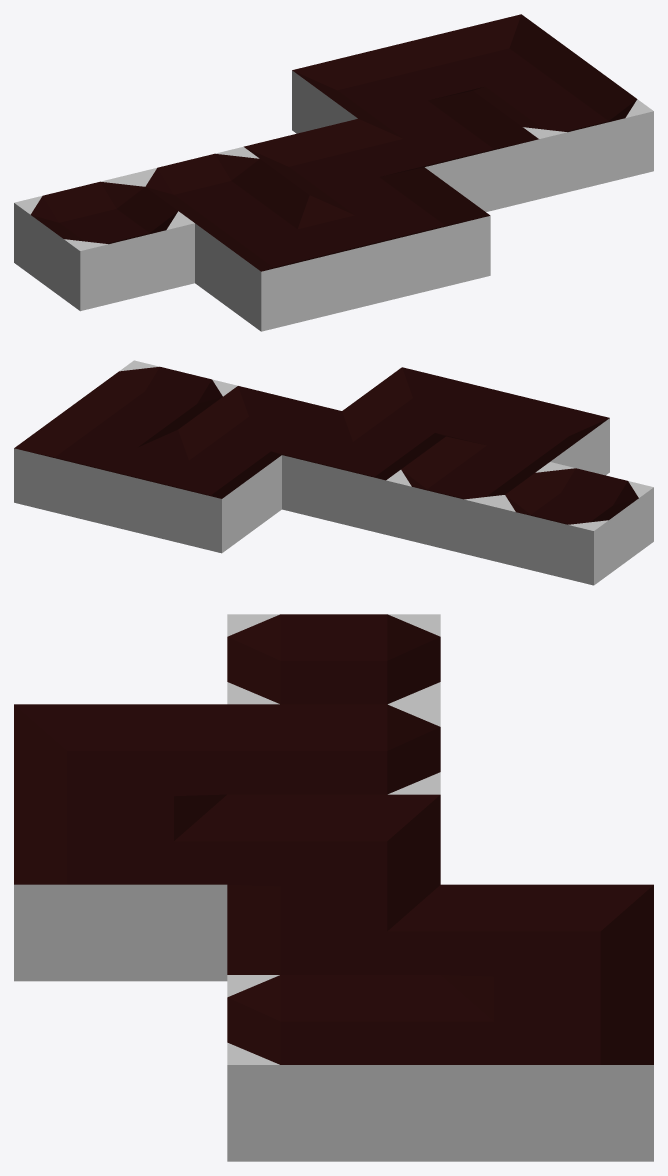
Rendered from 46s_path.obj.
The picture shows the model from 3 angles, top to bottom: view 1: azimuth 30°, elevation 25°; view 2: azimuth 150°, elevation 25°; view 3: azimuth 270°, elevation 25°; orthographic projection. The views are drawn at different scales.
Visible parts, largest first — view 1: hole.0.1_Cube.242, corner.1.0_corner.1187, corner.2.0_corner.1188, ending.4.1_ending.482, corner.3.1_corner.1190, corner.3.2_corner.1191, corner.4.2_corner.1192, ending.1.1_ending.481, corner.2.1_corner.1189; view 2: hole.0.1_Cube.242, corner.3.2_corner.1191, corner.4.2_corner.1192, ending.1.1_ending.481, corner.2.1_corner.1189, corner.1.0_corner.1187, corner.3.1_corner.1190, corner.2.0_corner.1188, ending.4.1_ending.482; view 3: ending.4.1_ending.482, corner.2.0_corner.1188, corner.4.2_corner.1192, corner.3.2_corner.1191, corner.2.1_corner.1189, corner.1.0_corner.1187, hole.0.1_Cube.242, ending.1.1_ending.481, corner.3.1_corner.1190.
Boxes of the visible parts, <box> form: hole.0.1_Cube.242: <box>14,174,194,311</box>; corner.1.0_corner.1187: <box>195,195,375,331</box>; corner.2.0_corner.1188: <box>310,167,490,303</box>; ending.4.1_ending.482: <box>474,63,653,198</box>; corner.3.1_corner.1190: <box>358,91,539,211</box>; corner.3.2_corner.1191: <box>292,42,472,133</box>; corner.4.2_corner.1192: <box>407,14,587,98</box>; ending.1.1_ending.481: <box>129,146,309,231</box>; corner.2.1_corner.1189: <box>244,119,423,202</box>; hole.0.1_Cube.242: <box>490,462,653,585</box>; corner.3.2_corner.1191: <box>118,430,281,553</box>; corner.4.2_corner.1192: <box>14,404,177,527</box>; ending.1.1_ending.481: <box>386,437,549,559</box>; corner.2.1_corner.1189: <box>282,411,445,534</box>; corner.1.0_corner.1187: <box>446,392,609,475</box>; corner.3.1_corner.1190: <box>178,386,341,462</box>; corner.2.0_corner.1188: <box>342,367,505,443</box>; ending.4.1_ending.482: <box>74,360,237,436</box>; ending.4.1_ending.482: <box>227,975,440,1161</box>; corner.2.0_corner.1188: <box>14,794,227,981</box>; corner.4.2_corner.1192: <box>440,975,653,1161</box>; corner.3.2_corner.1191: <box>440,884,653,998</box>; corner.2.1_corner.1189: <box>227,794,440,908</box>; corner.1.0_corner.1187: <box>14,704,227,818</box>; hole.0.1_Cube.242: <box>227,614,440,704</box>; ending.1.1_ending.481: <box>227,704,440,794</box>; corner.3.1_corner.1190: <box>227,885,440,974</box>.
Bounding box in the file's own units: 10 × 1 × 6.
